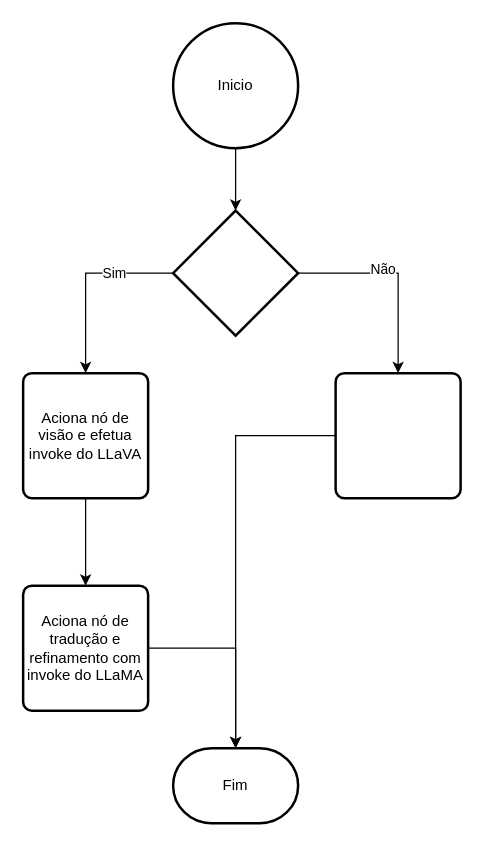
The diagram is 483 pixels wide and 845 high, and some of its shapes have lost their labels. Each missing label, with the box of its shape:
Aciona nó de texto e efetua invoke do LLaMa: (334, 371, 461, 499)
Há Imagem: (171, 209, 299, 336)
